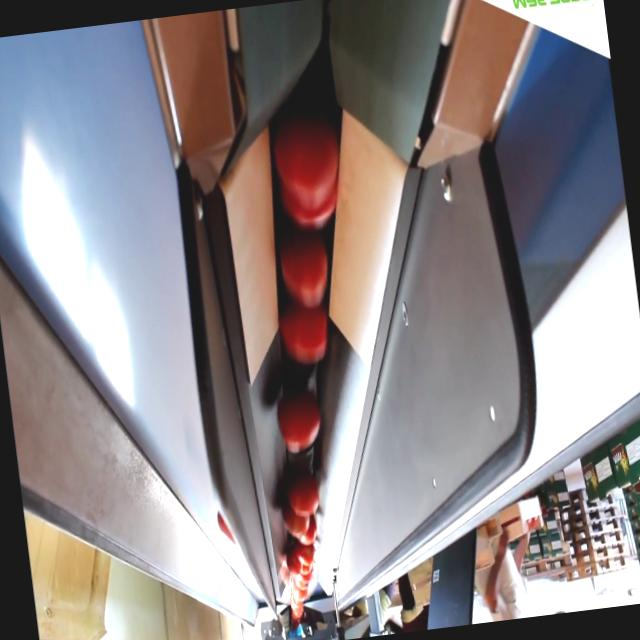Tomato: (268, 104, 348, 212), (276, 219, 336, 305), (281, 304, 336, 364), (274, 388, 324, 452), (286, 469, 322, 518), (280, 500, 312, 536), (218, 508, 234, 546), (294, 520, 317, 544), (284, 554, 302, 578), (295, 545, 315, 563), (290, 584, 306, 602)
